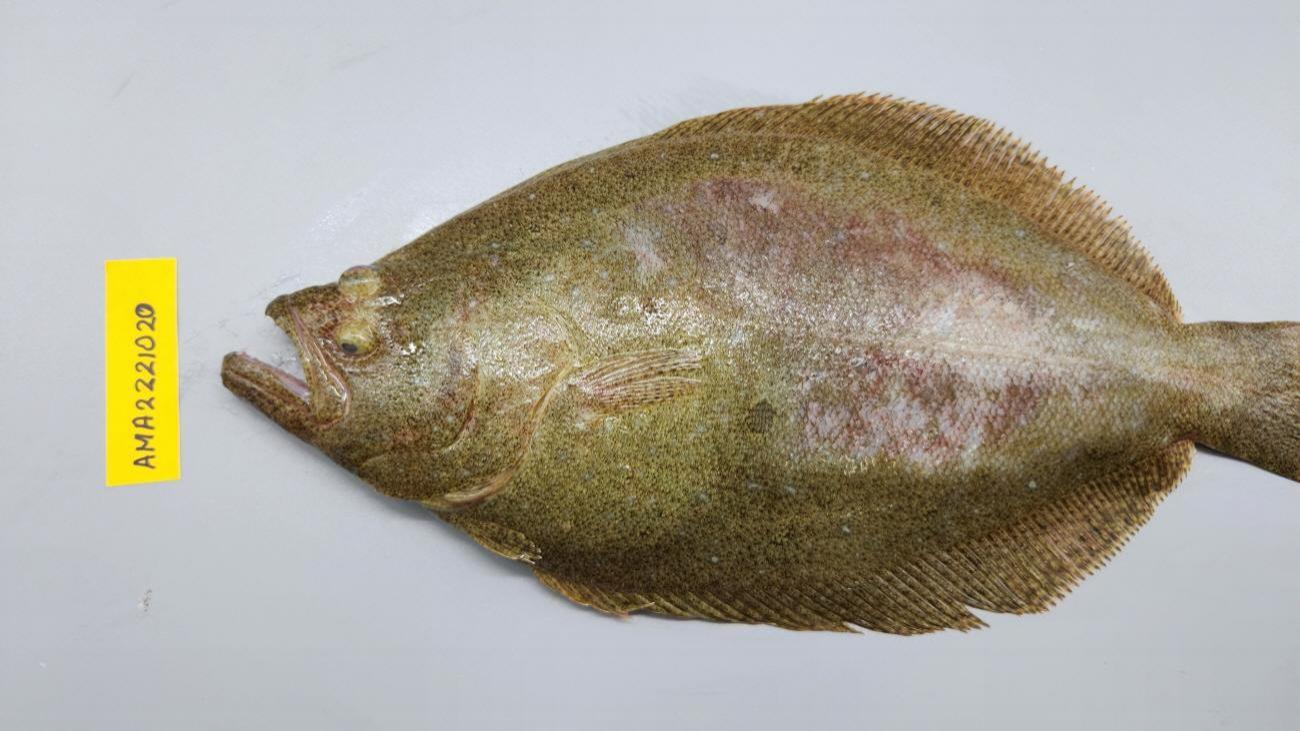MADYU: (598, 164, 1266, 481)
MAFAH: (976, 436, 1196, 620)
